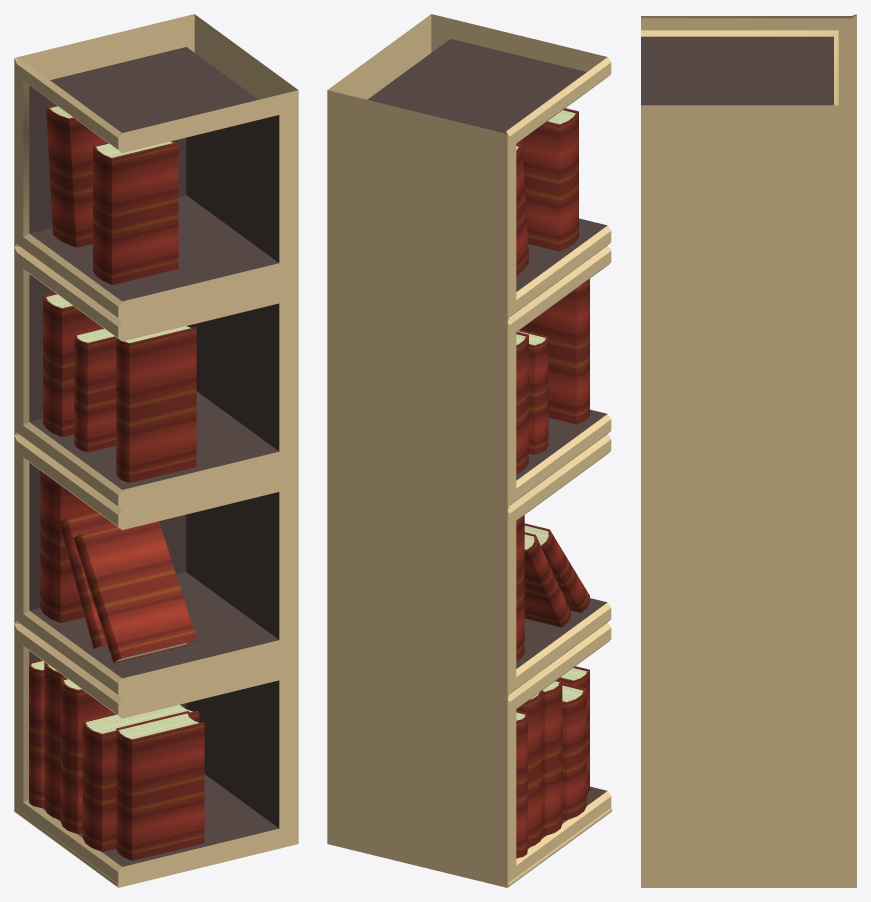
Rendered from OT_159_bookshelf_corner.glb.
The picture shows the model from 3 angles, left to right: view 1: azimuth 30°, elevation 25°; view 2: azimuth 150°, elevation 25°; view 3: azimuth 270°, elevation 25°; orthographic projection. The views are drawn at different scales.
Visible parts, largest first — view 1: bookshelf_corner, book.006, book.012, book.009, book.014, book.013, book.005, book.011, book.010, book.007, book.004, book.003 (+2 smaller); view 2: bookshelf_corner, book.014, book.012, book.005, book.004, book.008, book.003, book.011, book.009, book.010, book.001, book.013 (+2 smaller); view 3: bookshelf_corner.
Boxes of the visible parts, x1,y1,x2,y2 form: bookshelf_corner: (14, 14, 298, 887); book.006: (116, 711, 204, 860); book.012: (116, 326, 196, 482); book.009: (73, 521, 196, 663); book.014: (93, 141, 178, 284); book.013: (46, 104, 105, 247); book.005: (82, 704, 199, 851); book.011: (74, 327, 116, 452); book.010: (43, 292, 101, 436); book.007: (40, 470, 96, 622); book.004: (61, 677, 113, 833); book.003: (44, 662, 64, 820); bookshelf_corner: (327, 14, 612, 887); book.014: (518, 108, 578, 251); book.012: (520, 279, 589, 424); book.005: (562, 683, 586, 820); book.004: (543, 679, 562, 835); book.008: (524, 532, 570, 627); book.003: (516, 690, 542, 847); book.011: (517, 329, 548, 454); book.009: (524, 523, 589, 612); book.010: (516, 332, 528, 473); book.001: (516, 710, 527, 858); book.013: (516, 143, 529, 276); bookshelf_corner: (641, 14, 856, 887).
Bounding box in the file's own units: 0.7546 × 3 × 0.75.
Materials: 3 (1 with a texture image).
